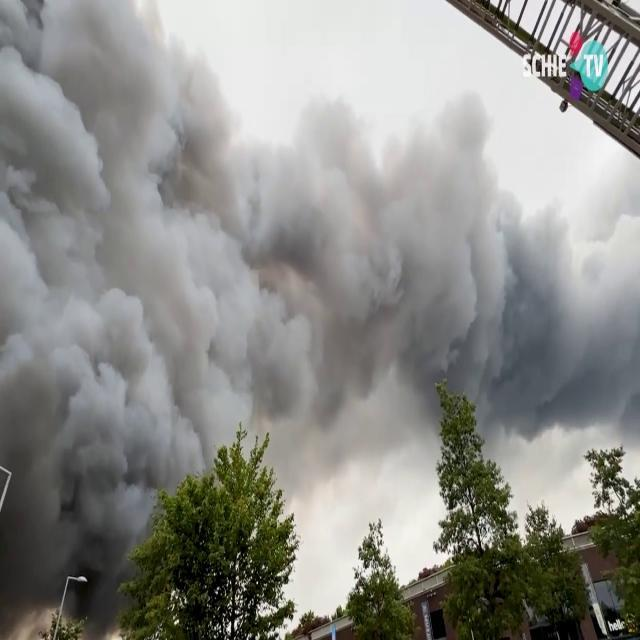Smoke: (0, 3, 562, 541)
